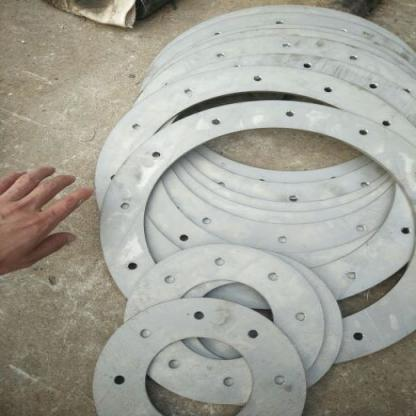FOD: (83, 291, 316, 415)
